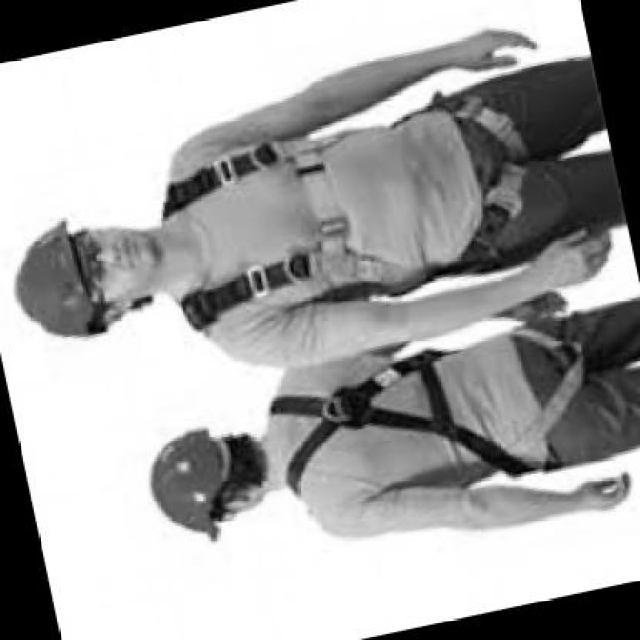Arnes_seguridad: (145, 73, 556, 339), (259, 308, 592, 522)
